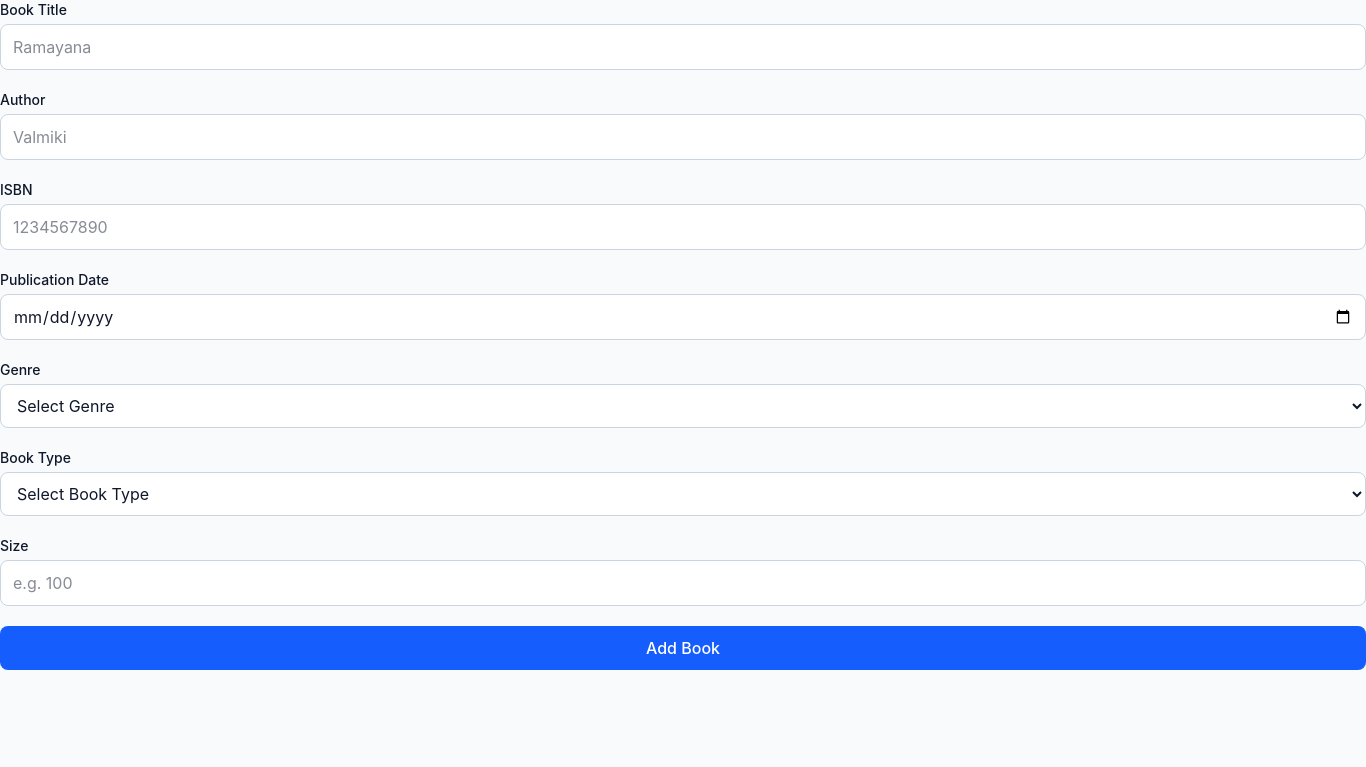
Test: BookForm › shows validation errors when required fields are empty
The image size is (1366, 767).
What coordinates should you click on to do the following:
click the button "Add Book"
I would click on:
 (683, 648)
Its box is [0, 626, 1365, 670].
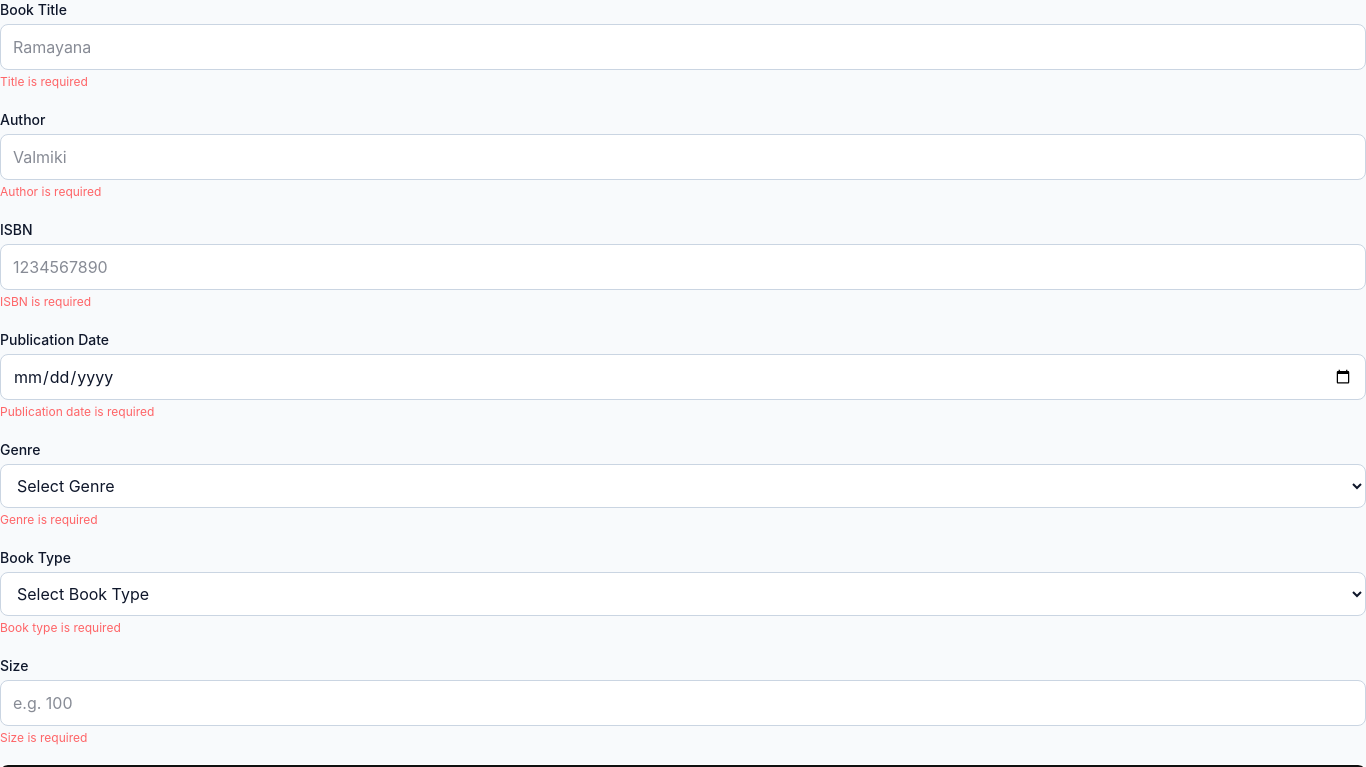
Expected: the text "Title is required" is shown, [0, 74, 88, 89]
Expected: the text "Author is required" is shown, [0, 184, 101, 199]
Expected: the text "ISBN is required" is shown, [0, 294, 91, 309]
